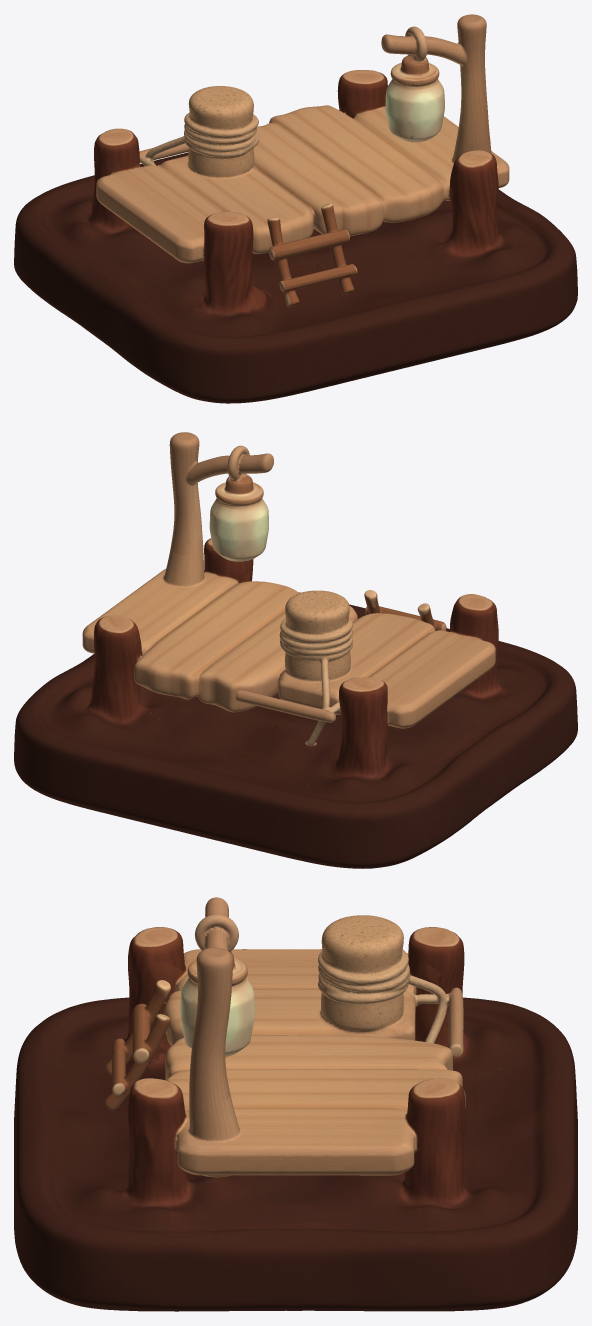
Rendered from Meshy_AI_Lantern_Dock_at_Cocoa_Cove_20261029_texture.fbx.
The picture shows the model from 3 angles, top to bottom: view 1: azimuth 30°, elevation 25°; view 2: azimuth 150°, elevation 25°; view 3: azimuth 270°, elevation 25°; orthographic projection. The views are drawn at different scales.
Visible parts, largest first — view 1: Mesh_0; view 2: Mesh_0; view 3: Mesh_0.
Boxes of the visible parts, x1,y1,x2,y2 form: Mesh_0: (14,14,577,403); Mesh_0: (14,432,577,868); Mesh_0: (14,897,577,1311).
Size of the model in its own units: 190 by 117 by 178.
Materials: 1 (1 with a texture image).
